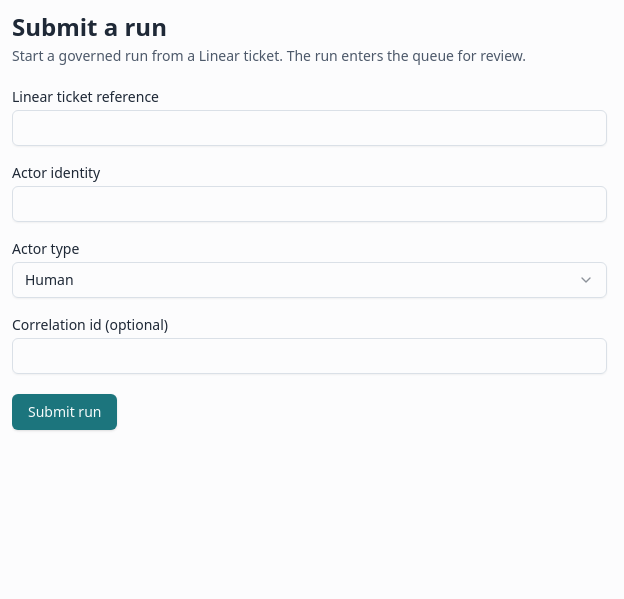
SubmitRunForm — failure surface via ProblemDetails (AC7/AC8c) › renders the LINEAR_TICKET_NOT_FOUND error surface
Type "LIN-2210" into the field labelled "Linear ticket reference". click: coordinates (309, 128)
box: [12, 110, 607, 146]
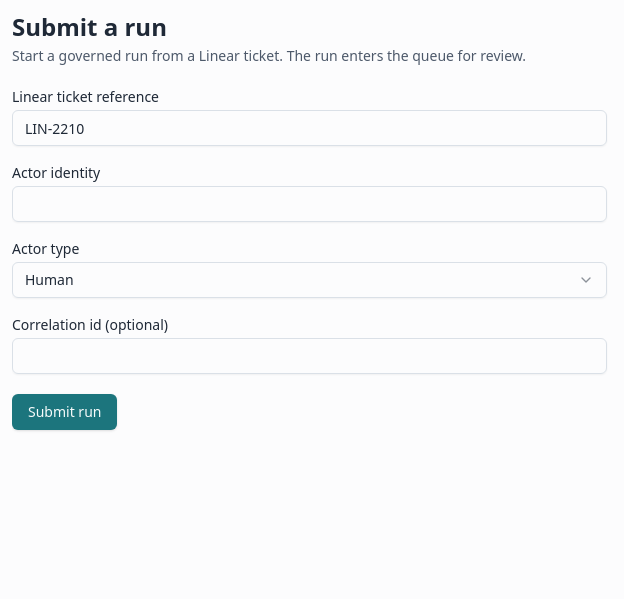
Type "alex@example.com" into the field labelled "Actor identity". click: coordinates (309, 204)
box: [12, 186, 607, 222]
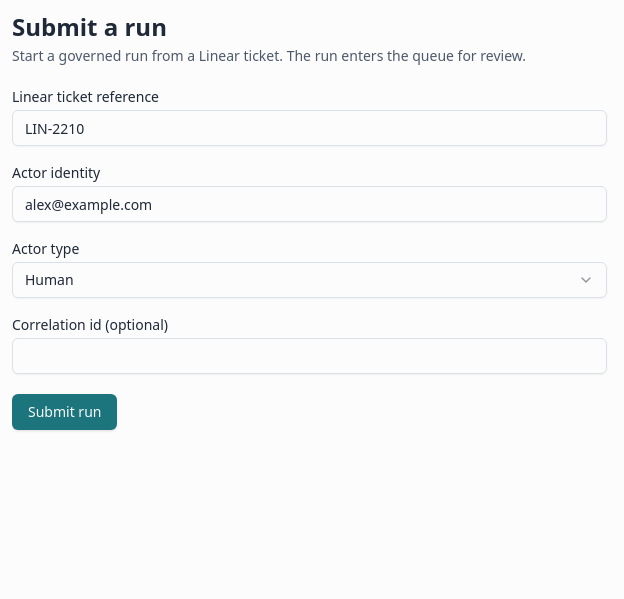
Click the button with test id "submit-run-button". click: coordinates (65, 412)
box: [12, 394, 117, 430]
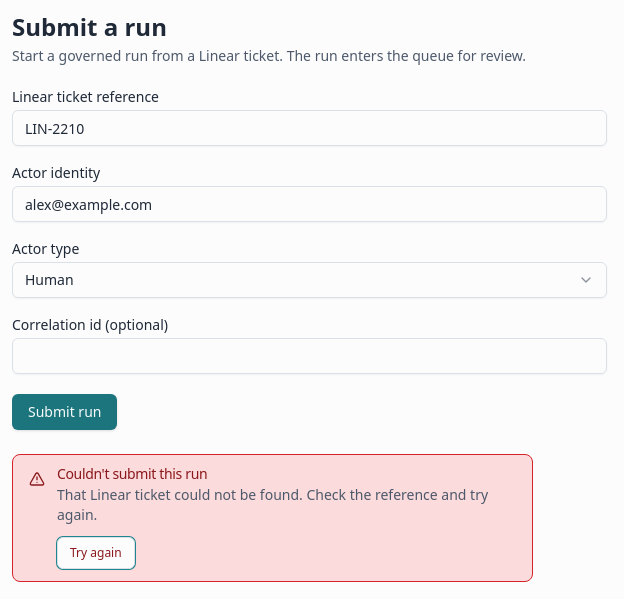
expect the element with test id "submit-error" shows "ticket could not be found": met, box [57, 485, 488, 524]
